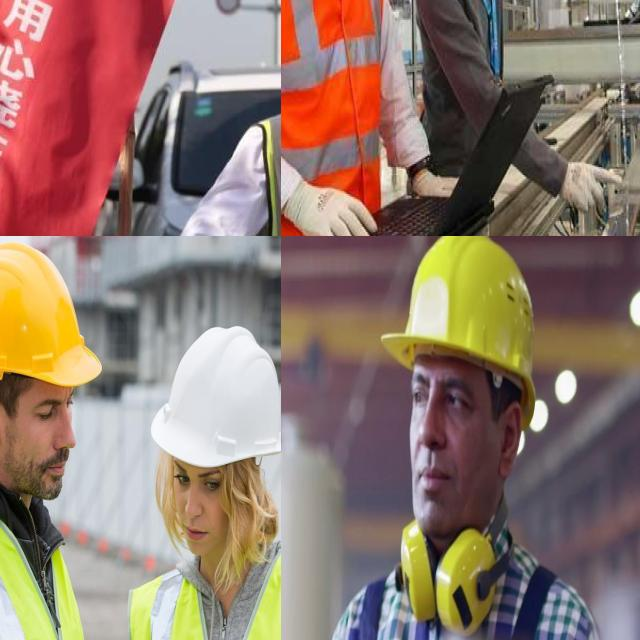No_Ear-Protection: (499, 394, 521, 486)
No_Glasses: (405, 362, 483, 429), (20, 383, 80, 429), (167, 465, 231, 497)
face_nomask: (396, 364, 486, 544), (12, 373, 84, 504), (173, 456, 236, 562)
hand_glove: (281, 170, 388, 236), (559, 152, 628, 230)
head_helmet: (385, 236, 542, 383), (149, 323, 281, 469), (0, 241, 107, 384)
person: (310, 236, 638, 640), (128, 337, 281, 640), (0, 257, 102, 640), (281, 0, 410, 236), (418, 0, 537, 187), (220, 0, 281, 236)
vest: (281, 0, 389, 230)
